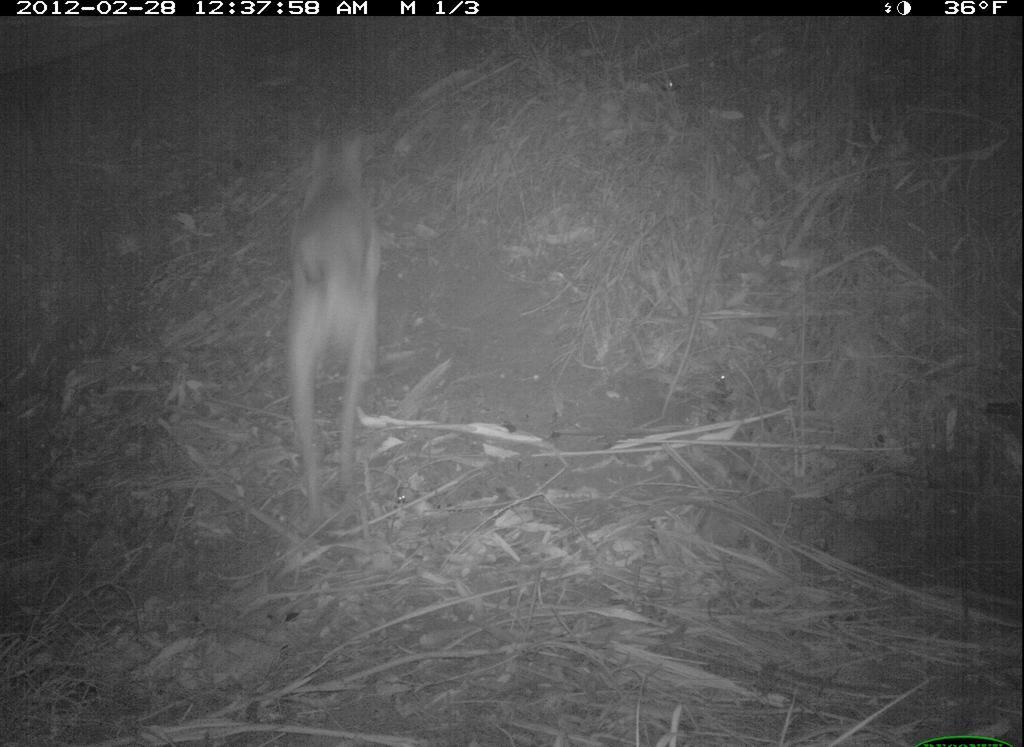dog: (277, 111, 433, 527)
